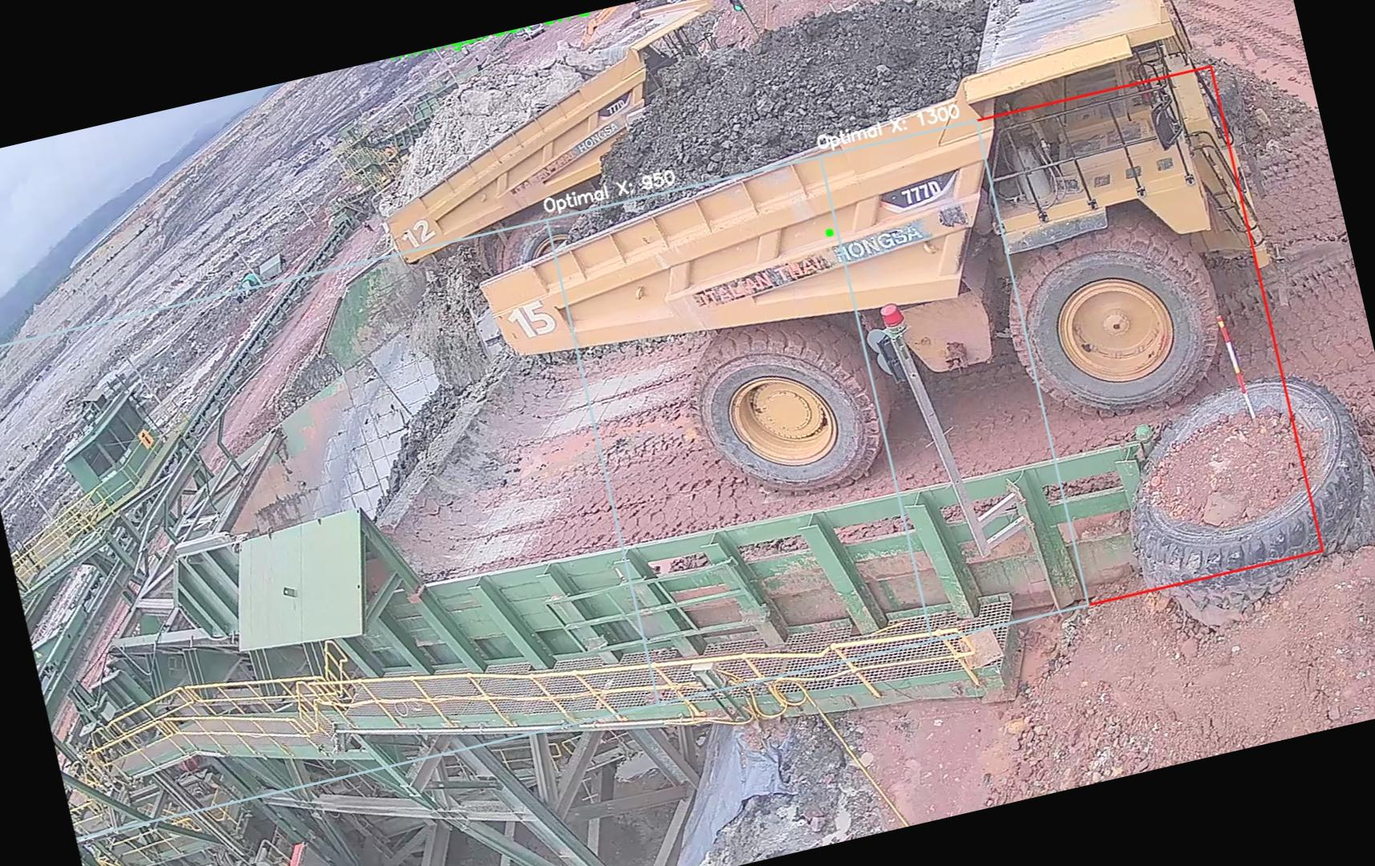company: (676, 202, 950, 315)
full_load: (624, 0, 981, 205)
mining_truck: (427, 0, 1310, 560)
tail_number: (495, 282, 577, 357)
truck_size: (867, 162, 972, 223)
